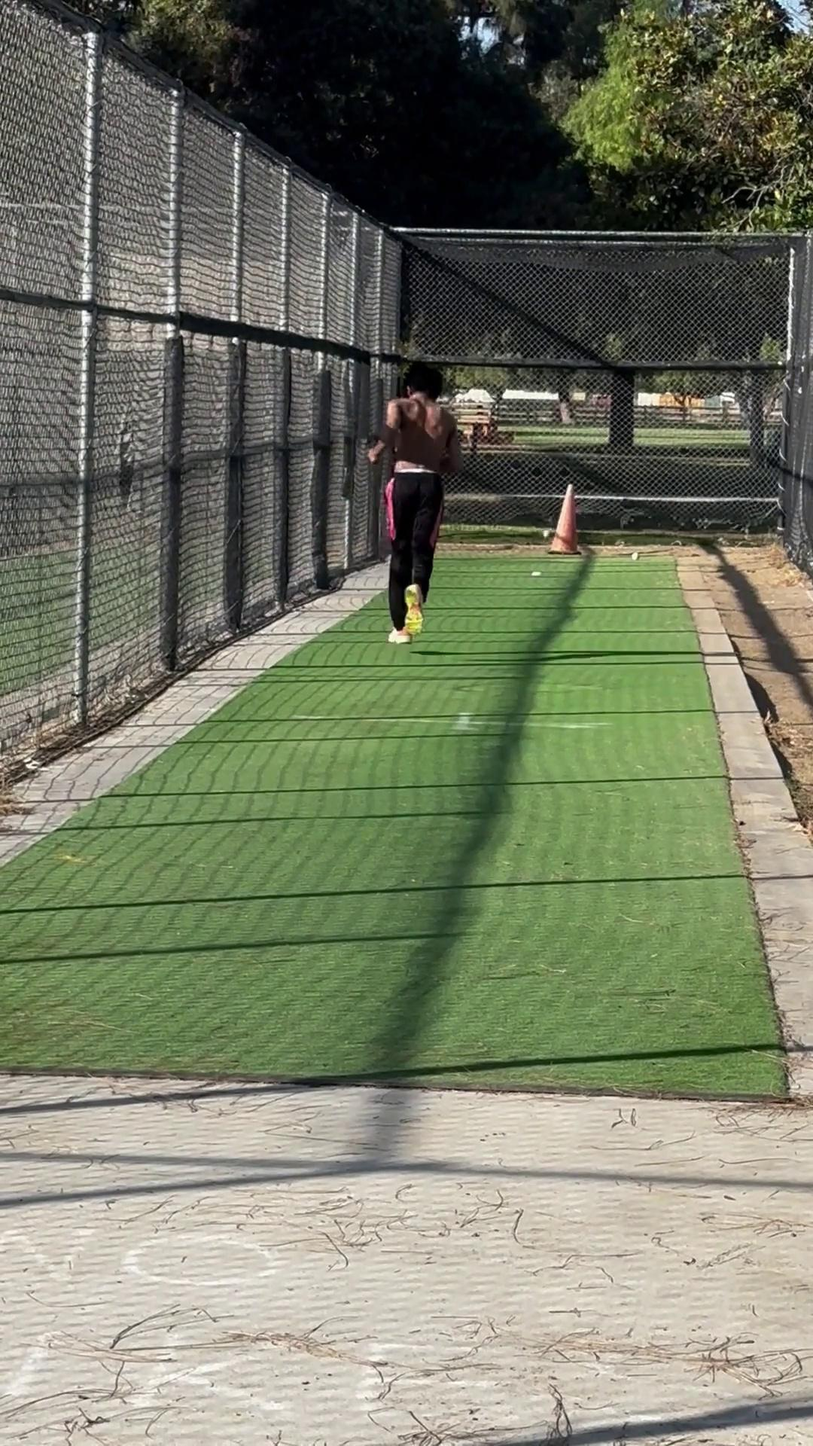ball: (539, 527, 553, 541)
